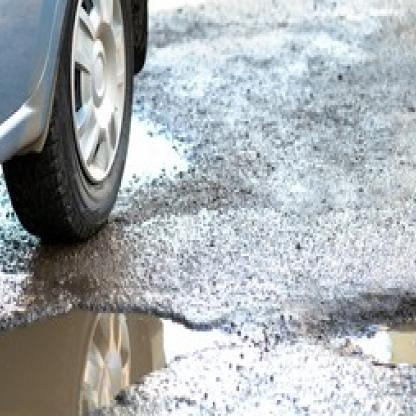pothole: (0, 300, 239, 416), (309, 283, 416, 388)
